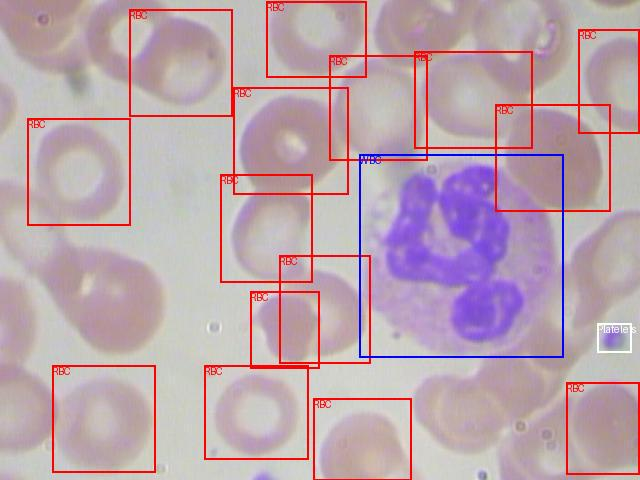Platelets: (597, 323, 631, 352)
RBC: (233, 87, 348, 194), (495, 104, 610, 211), (414, 51, 532, 148), (27, 118, 130, 225), (129, 9, 232, 116), (52, 365, 155, 472), (329, 55, 427, 160), (220, 174, 312, 282), (279, 255, 370, 363), (204, 365, 308, 459), (313, 398, 411, 480), (266, 1, 366, 77), (566, 382, 639, 474), (578, 29, 639, 133), (250, 291, 319, 368)
WBC: (359, 154, 563, 357)
